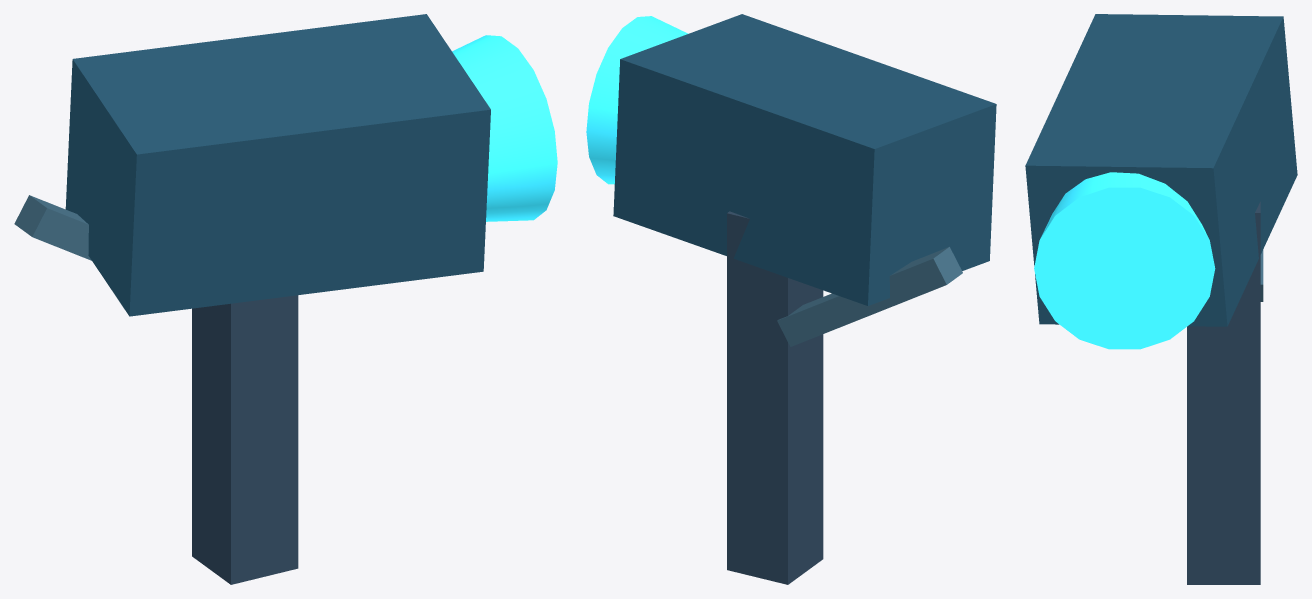
File: security-camera.glb
3 renders of one model, left to right at view 1: azimuth 30°, elevation 25°; view 2: azimuth 150°, elevation 25°; view 3: azimuth 270°, elevation 25°, orthographic. The views are drawn at different scales.
Size of the model in its own units: 1.63 by 1.9 by 0.9614.
